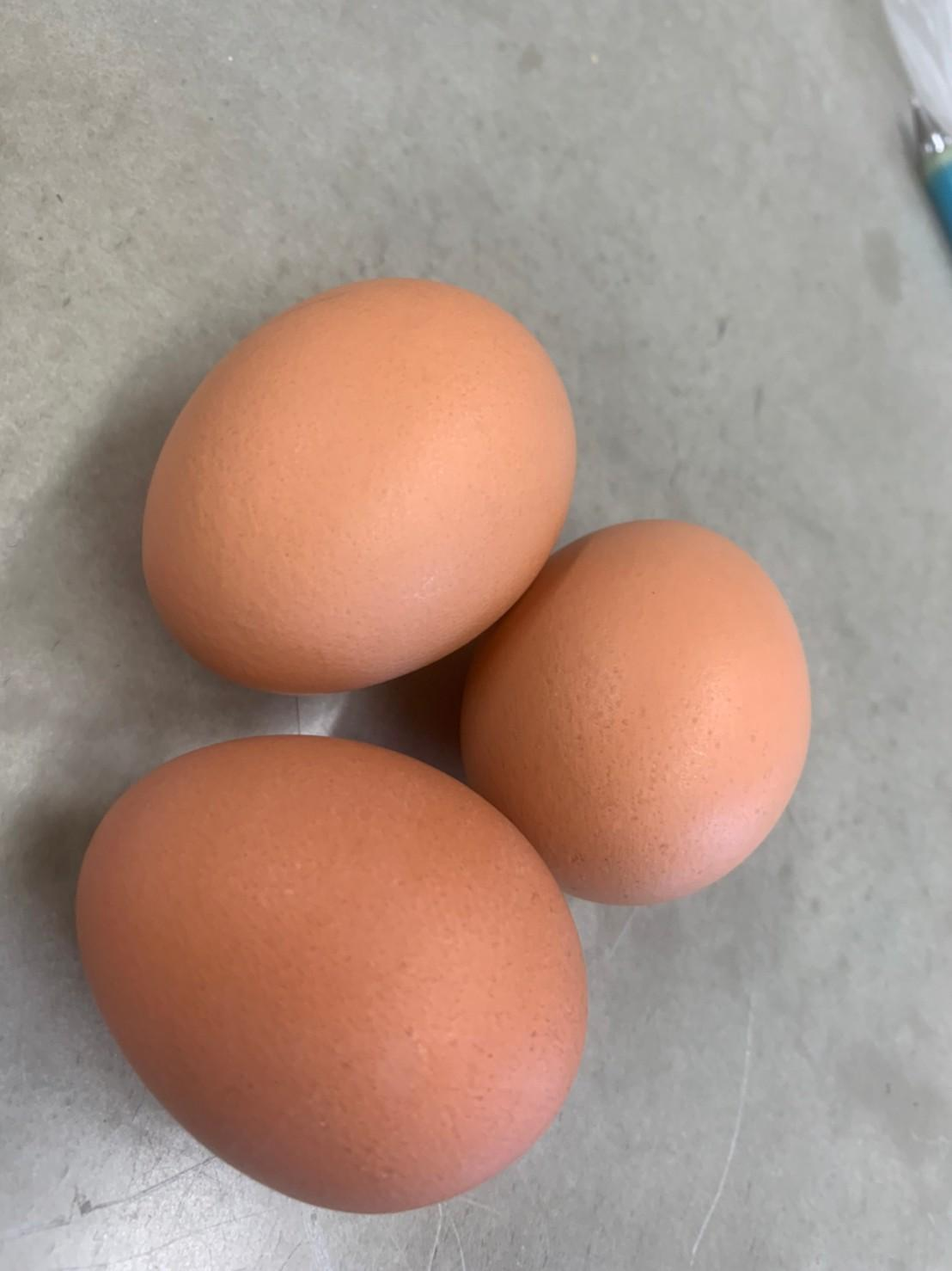egg: (61, 732, 595, 1224), (135, 270, 575, 703), (456, 516, 812, 905)
